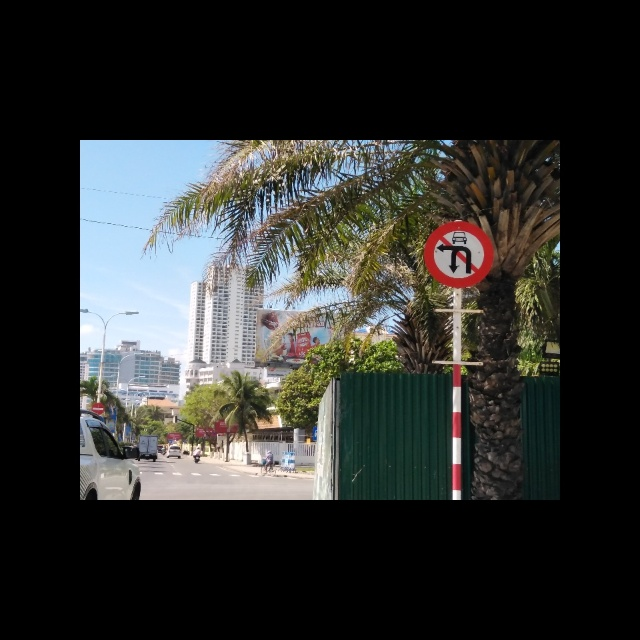Cấm xe ô tô quay đầu và rẽ trái: (423, 220, 495, 289)
